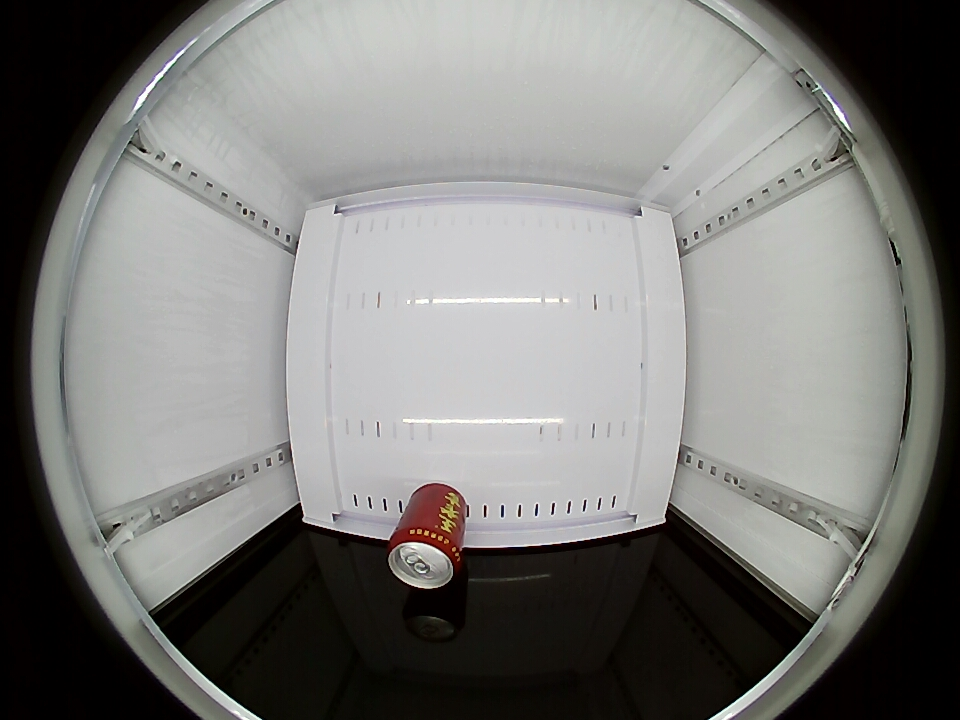wanglaoji-c: (387, 525, 463, 589)
